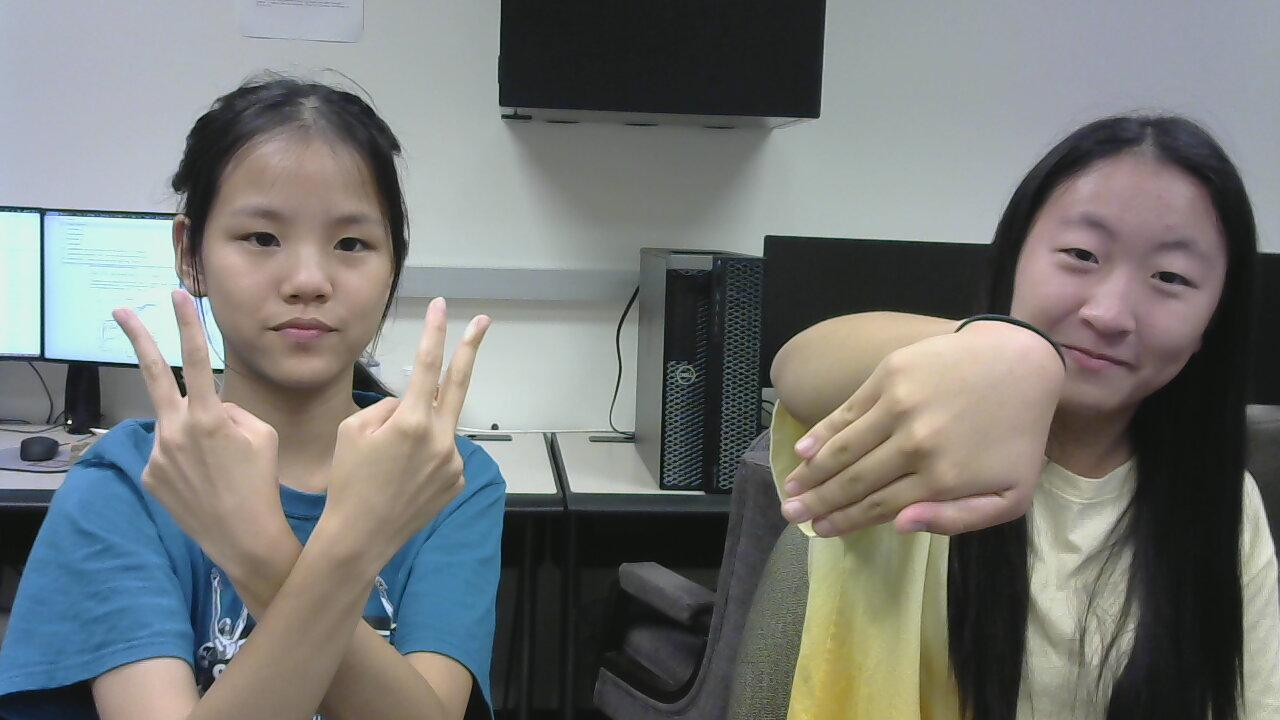hands: (779, 293, 1069, 544)
peace: (88, 276, 292, 564), (338, 268, 487, 583)
